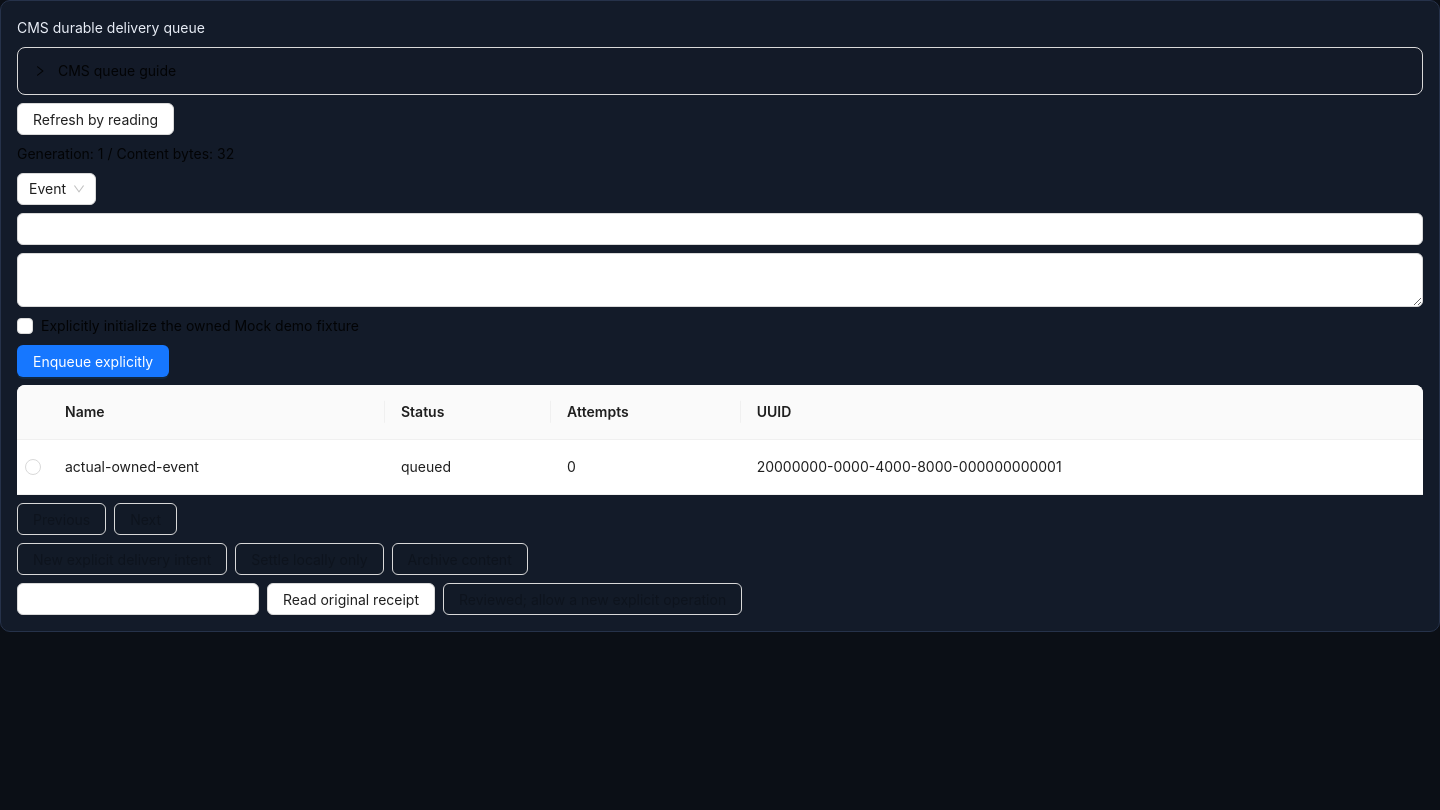
Test case: starts with a pure GET and requires an explicit payload submission and Mock seed consent
Expected: the text "actual-owned-event" is shown, left=49, top=440, right=385, bottom=495
Type "owned-name" into the field named "CMS name".
click(720, 229); type("owned-name")  # box left=17, top=213, right=1423, bottom=245
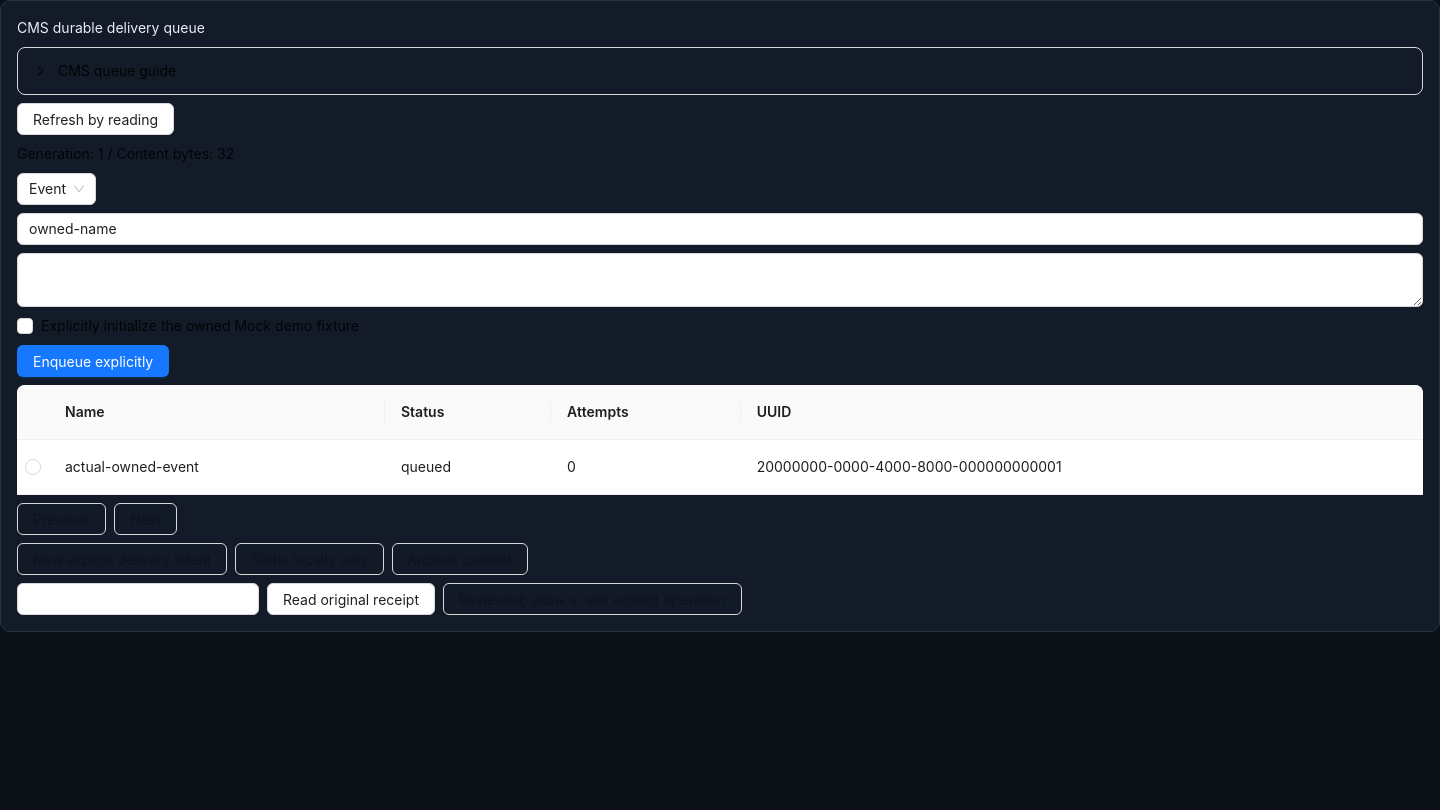
Type "owned-private-content" into the text box named "Event content".
click(720, 280); type("owned-private-content")  # box left=17, top=253, right=1423, bottom=307
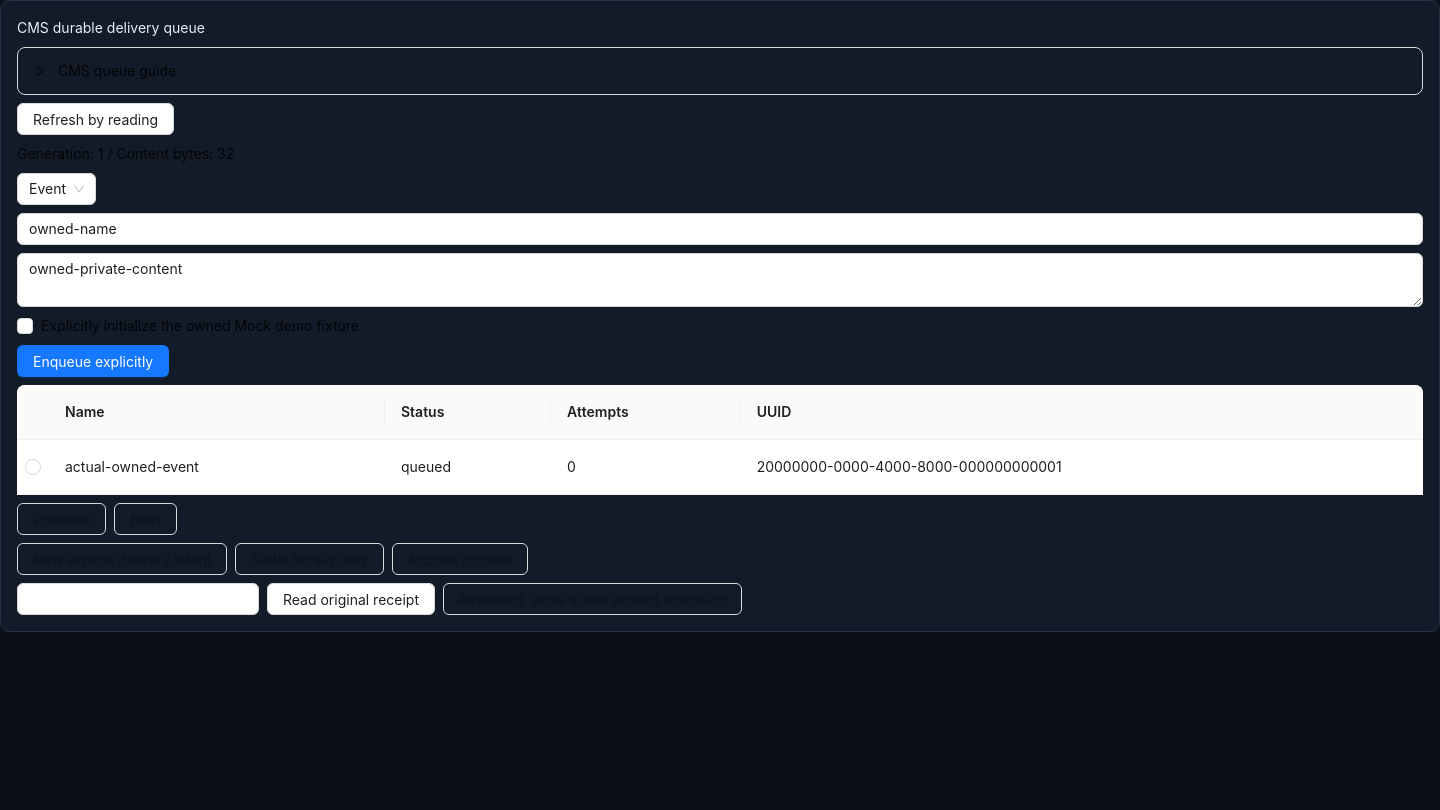
Click the checkbox labelled "Explicitly initialize the owned Mock demo fixture".
click(192, 326)  # box left=17, top=315, right=367, bottom=337
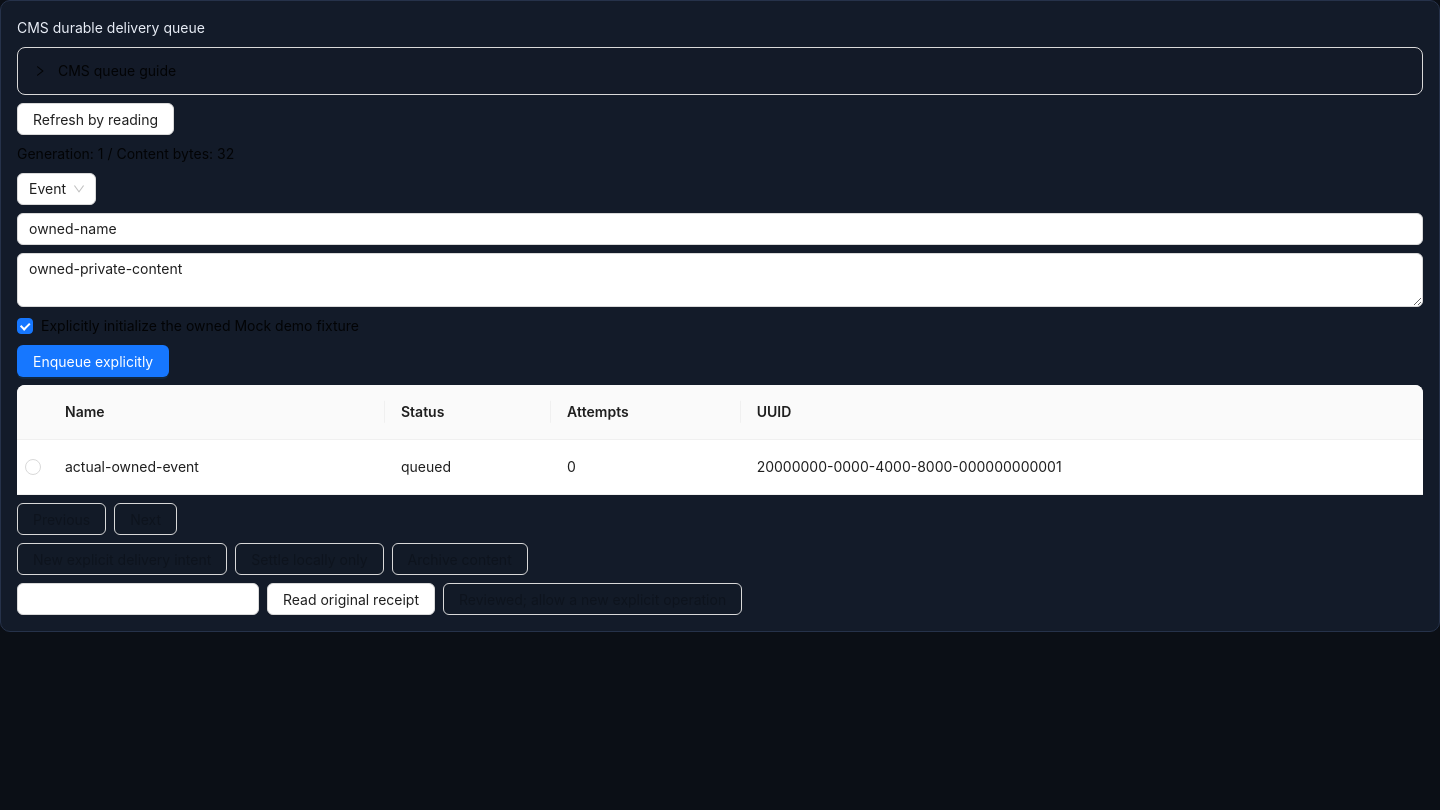
Click the button "Enqueue explicitly".
click(93, 361)  # box left=17, top=345, right=169, bottom=377
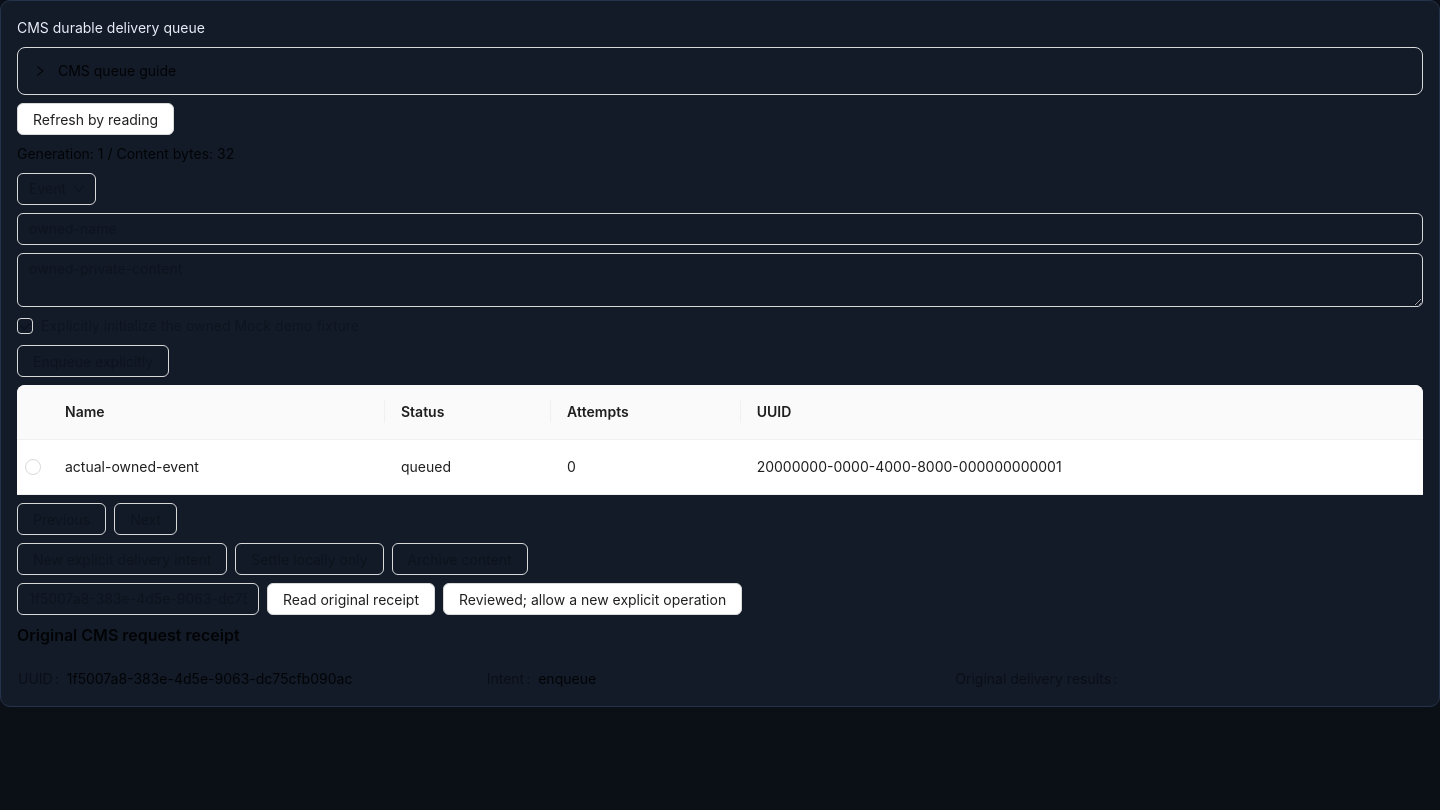
Result: the text "Original CMS request receipt" is shown at left=17, top=625, right=240, bottom=645
